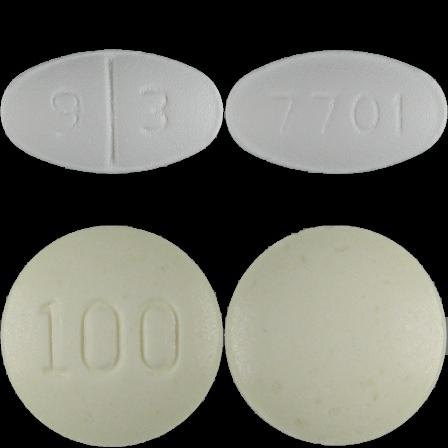66336-720: (0, 0, 224, 224)
